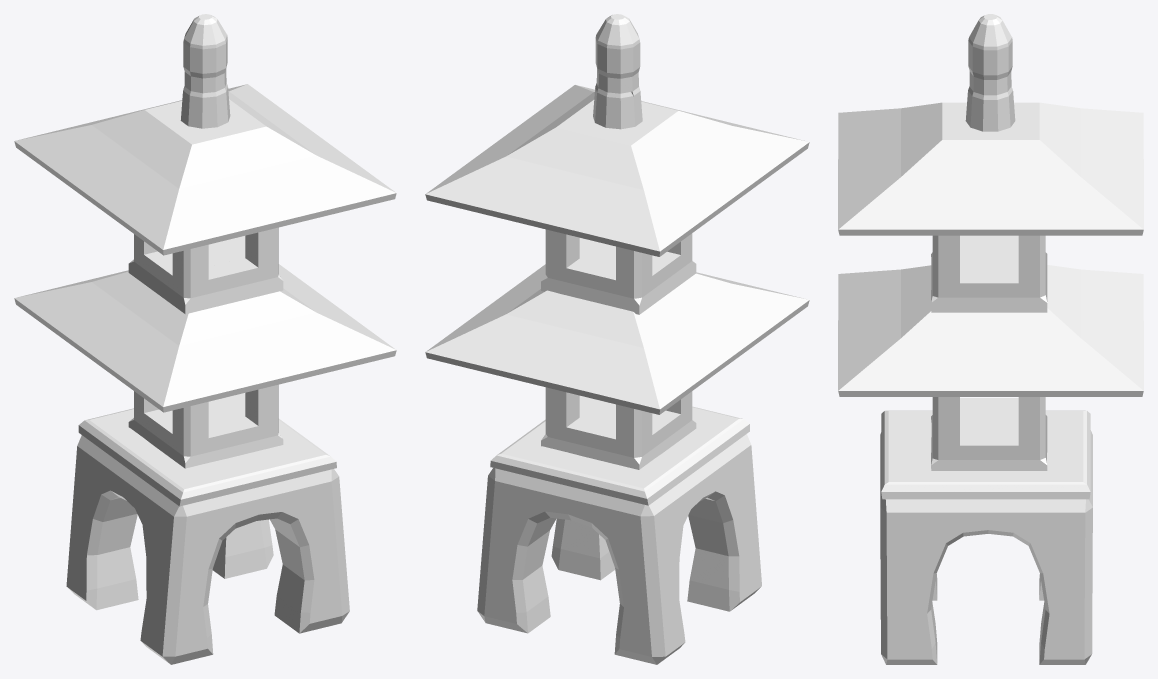
The model's file is Laterne_stein_mittel.fbx.
3 renders of one model, left to right at view 1: azimuth 30°, elevation 25°; view 2: azimuth 150°, elevation 25°; view 3: azimuth 270°, elevation 25°, orthographic. The views are drawn at different scales.
Visible parts, largest first — view 1: Cylinder.003; view 2: Cylinder.003; view 3: Cylinder.003.
Part boxes in pixels (left/top/right/bottom): Cylinder.003: left=14, top=14, right=396, bottom=664; Cylinder.003: left=425, top=14, right=809, bottom=664; Cylinder.003: left=838, top=14, right=1143, bottom=664.
Bounding box in the file's own units: 282 × 680 × 311.
